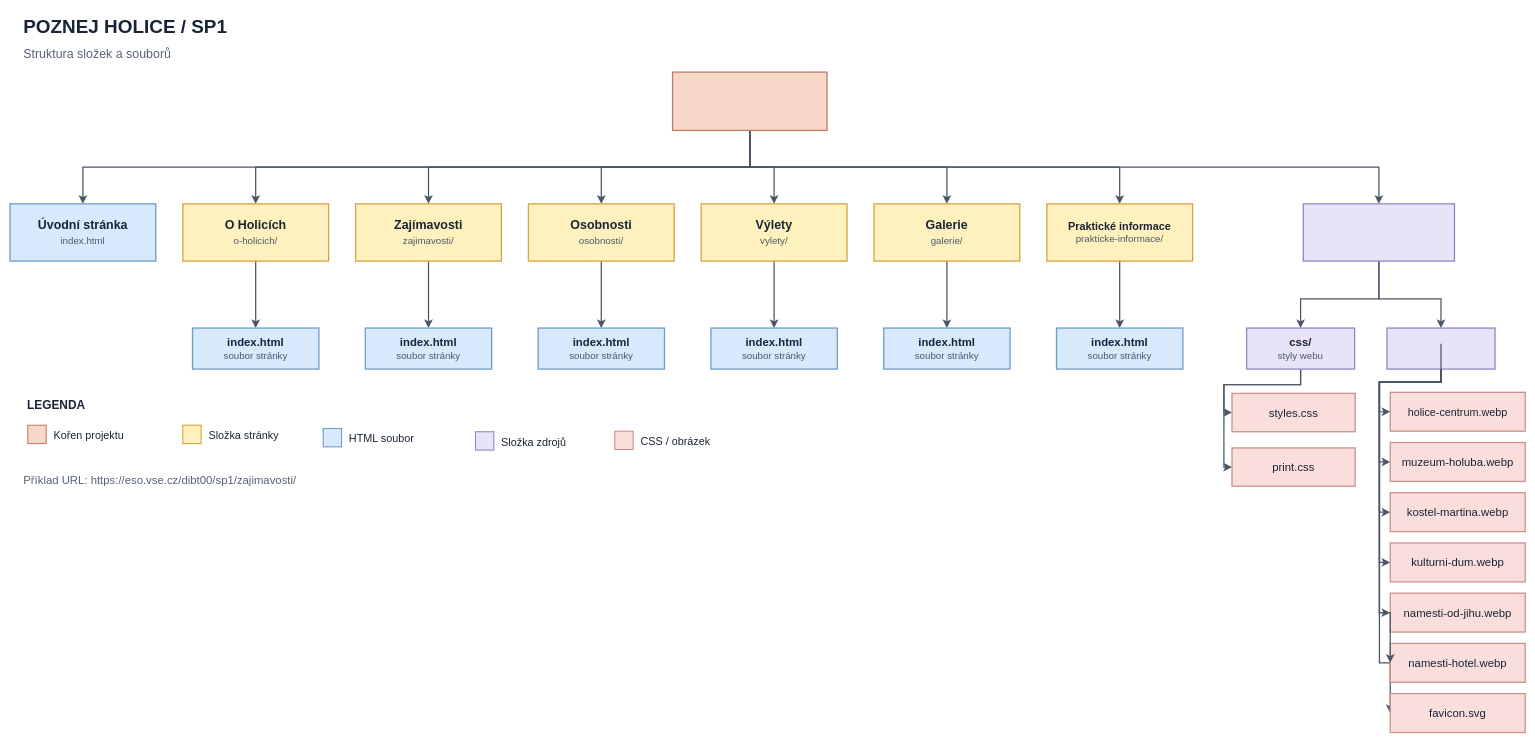
Image size: 1535x743. Some labels were removed from this diagram. Each missing label, with the centre of its shape:
"assets/ společné zdroje" goes at (1378,232).
"images/ obrázky webu" goes at (1440,348).
"sp1/ kořen webu" goes at (749,101).
